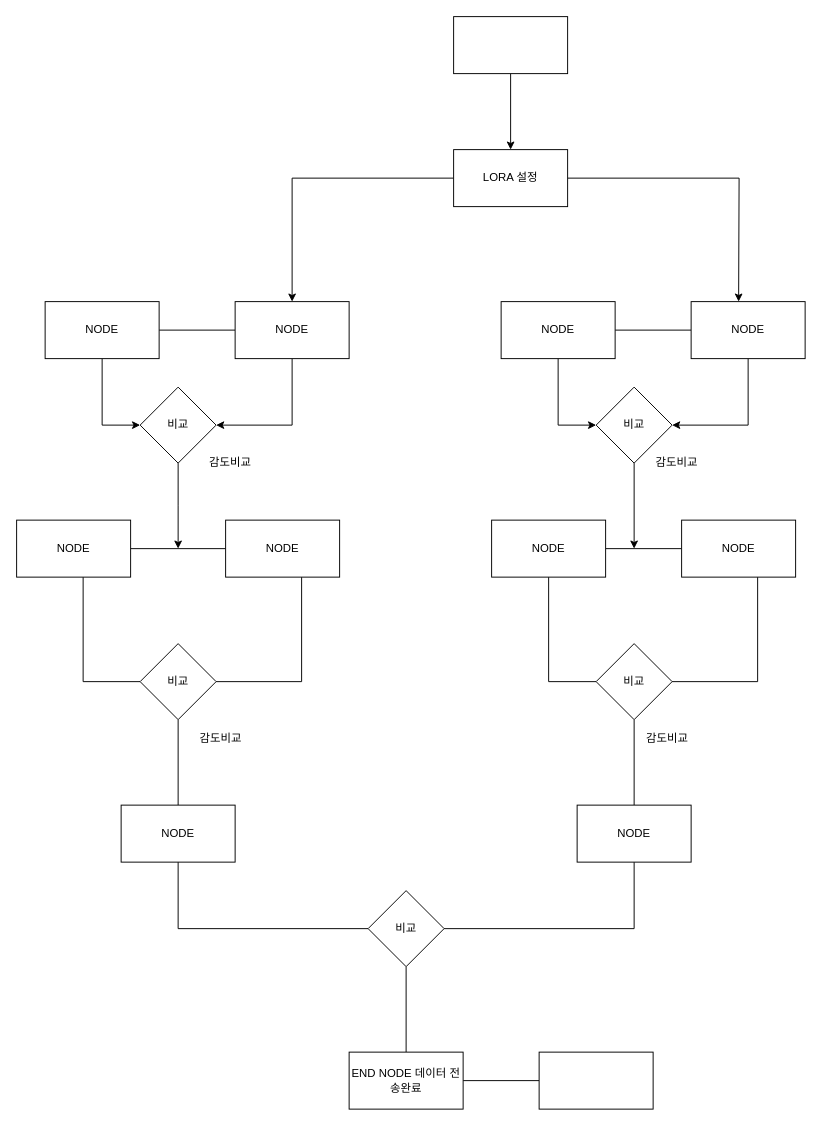
Some shapes in this 822 by 1126 pixel diagram are drawn without their labels. Each missing label, with the centre of its shape:
시작: pixel 510 45
종료: pixel 595 1080
